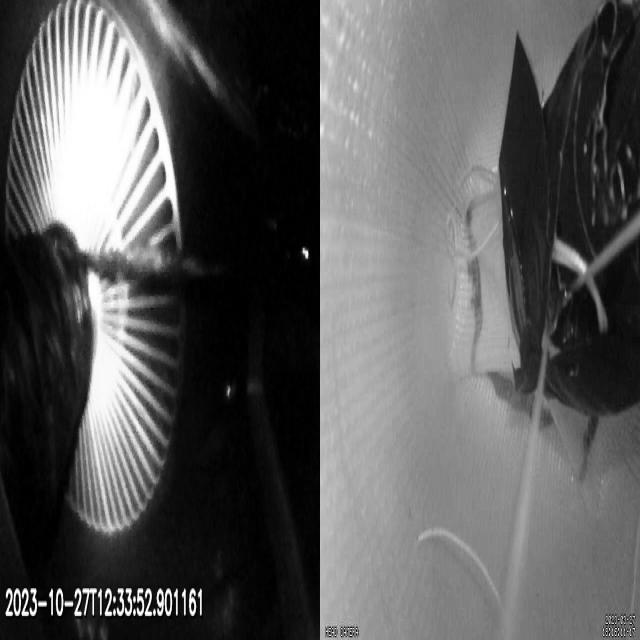red-circle: (465, 204, 597, 478)
